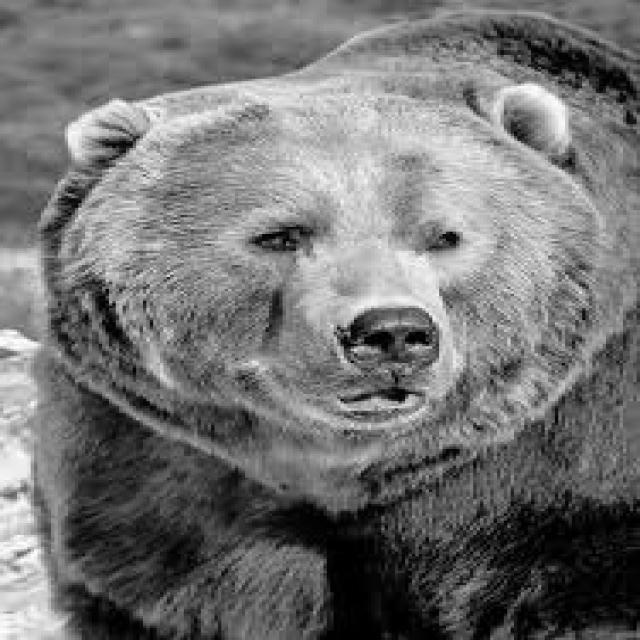Bear: (82, 74, 581, 638)
